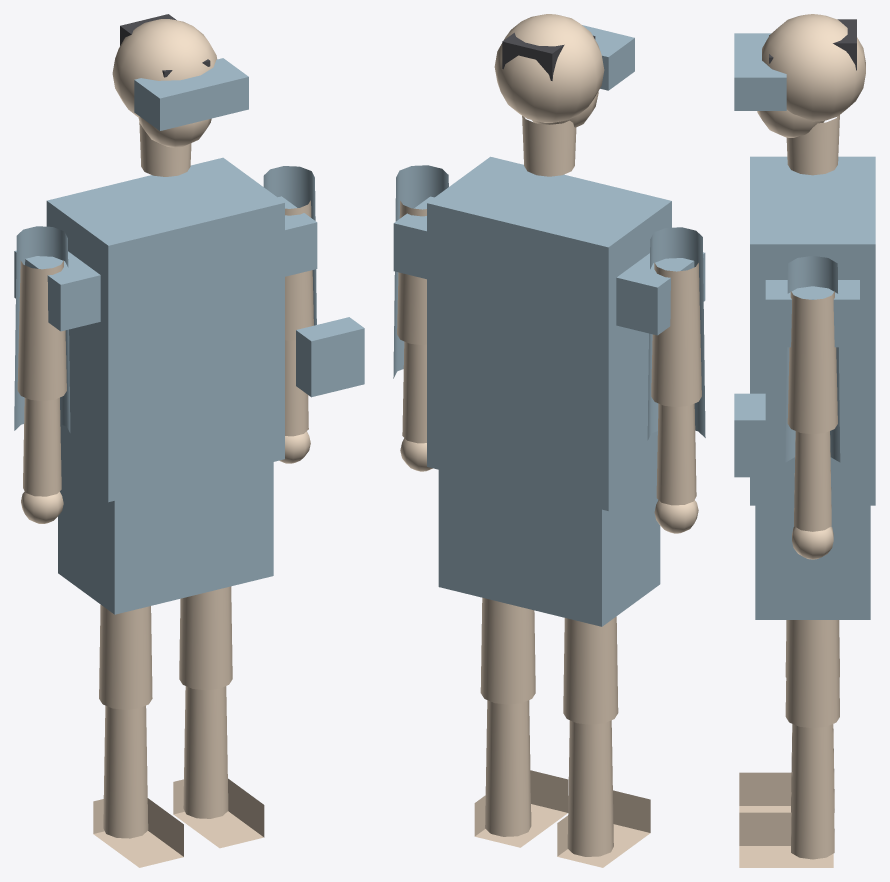
Rendered from body.glb.
3 views of the same model, side by side, from view 1: azimuth 30°, elevation 25°; view 2: azimuth 150°, elevation 25°; view 3: azimuth 270°, elevation 25° (orthographic). The views are drawn at different scales.
Parts seen in each view (by area): view 1: Metal, Skin; view 2: Metal, Skin, Hair; view 3: Metal, Skin, Hair.
Part boxes in pixels (left/top/right/bottom): Metal: left=14, top=58, right=364, bottom=614; Skin: left=17, top=19, right=313, bottom=867; Metal: left=393, top=25, right=705, bottom=626; Skin: left=397, top=14, right=701, bottom=867; Hair: left=502, top=32, right=595, bottom=80; Metal: left=734, top=33, right=875, bottom=619; Skin: left=739, top=14, right=865, bottom=867; Hair: left=769, top=19, right=856, bottom=70.
Bounding box in the file's own units: 0.6923 × 1.72 × 0.27.
